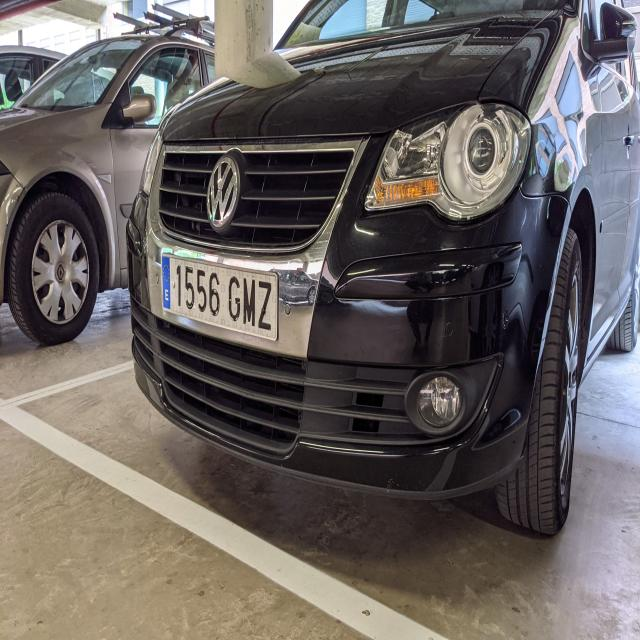license_plate-34Td: (161, 251, 278, 341)
